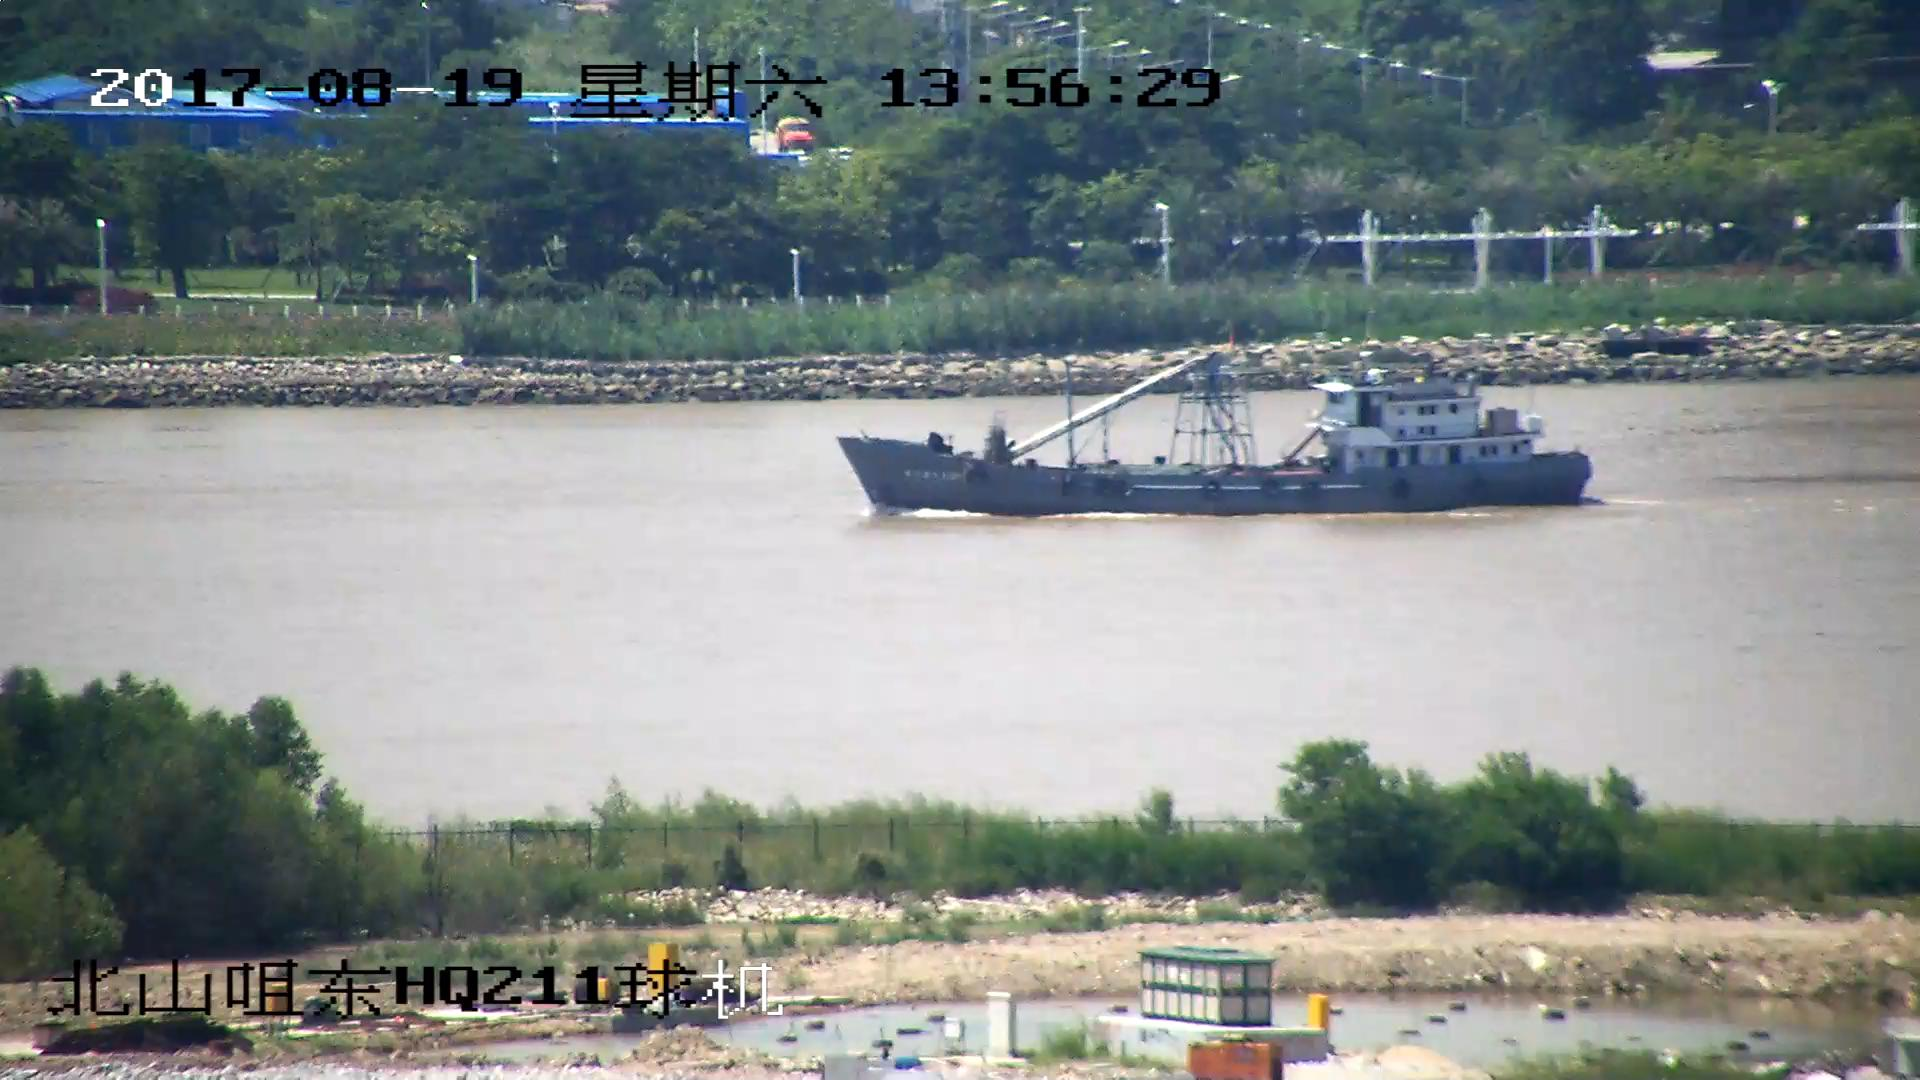fishing boat: (838, 345, 1595, 514)
